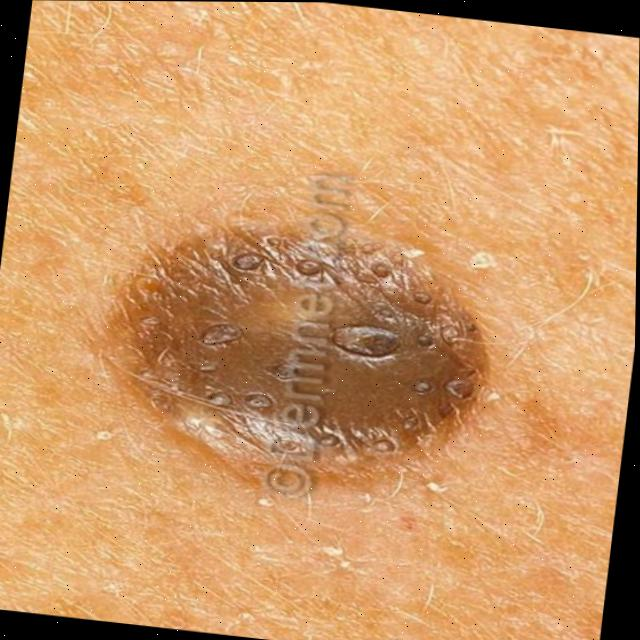Eczema: (139, 236, 434, 460)
